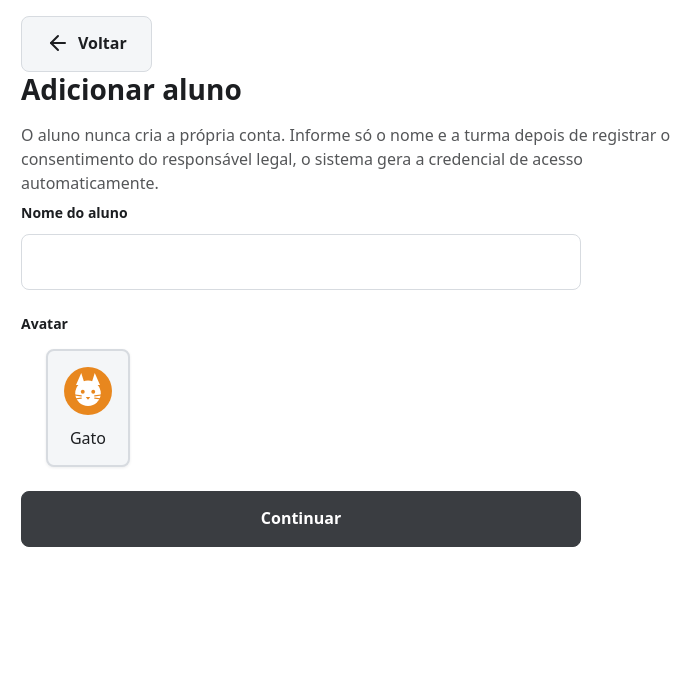
Test case: TeacherAddStudent - passo 1 (dados do aluno) › A2 - creates only a PENDING account, never a credential, at this step
Type "Aluno Teste" into the field labelled "Nome do aluno" at point(301, 262), box [21,234,581,290]
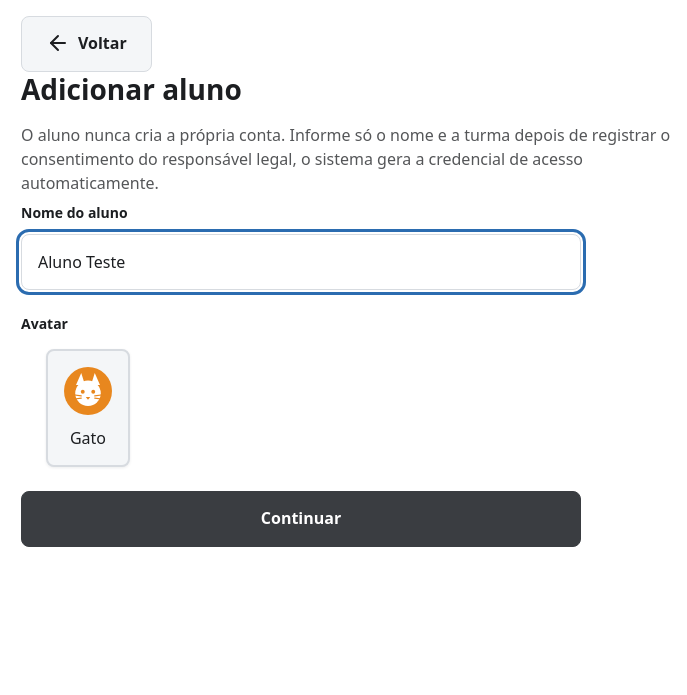
Click the button "Continuar" at point(301, 519), box [21,491,581,547]
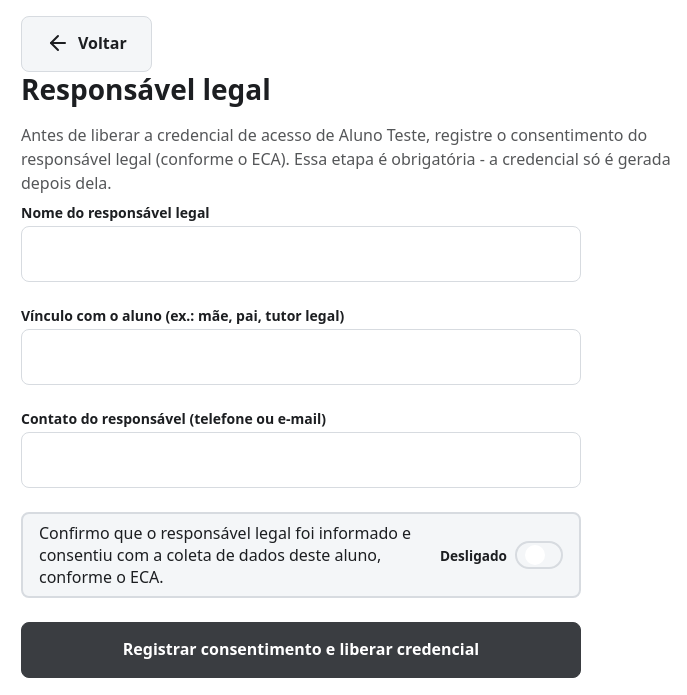
Expected: the heading "Responsável legal" is shown, [21,70,271,108]
